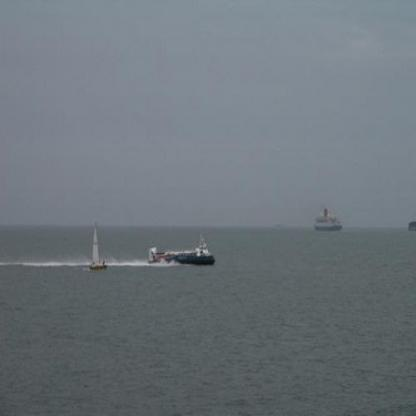boat: (148, 232, 216, 267), (85, 222, 107, 271), (314, 207, 342, 232)
